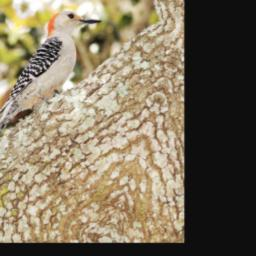Woodpecker: (0, 0, 107, 179)
